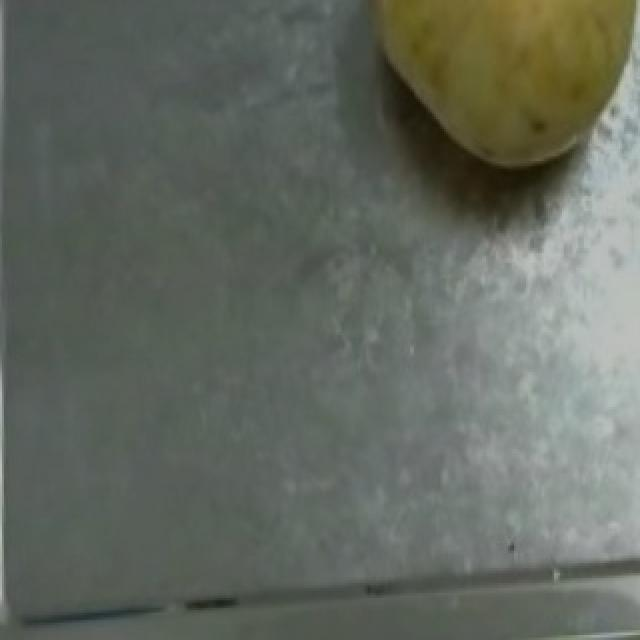Fruit: (330, 0, 640, 203)
